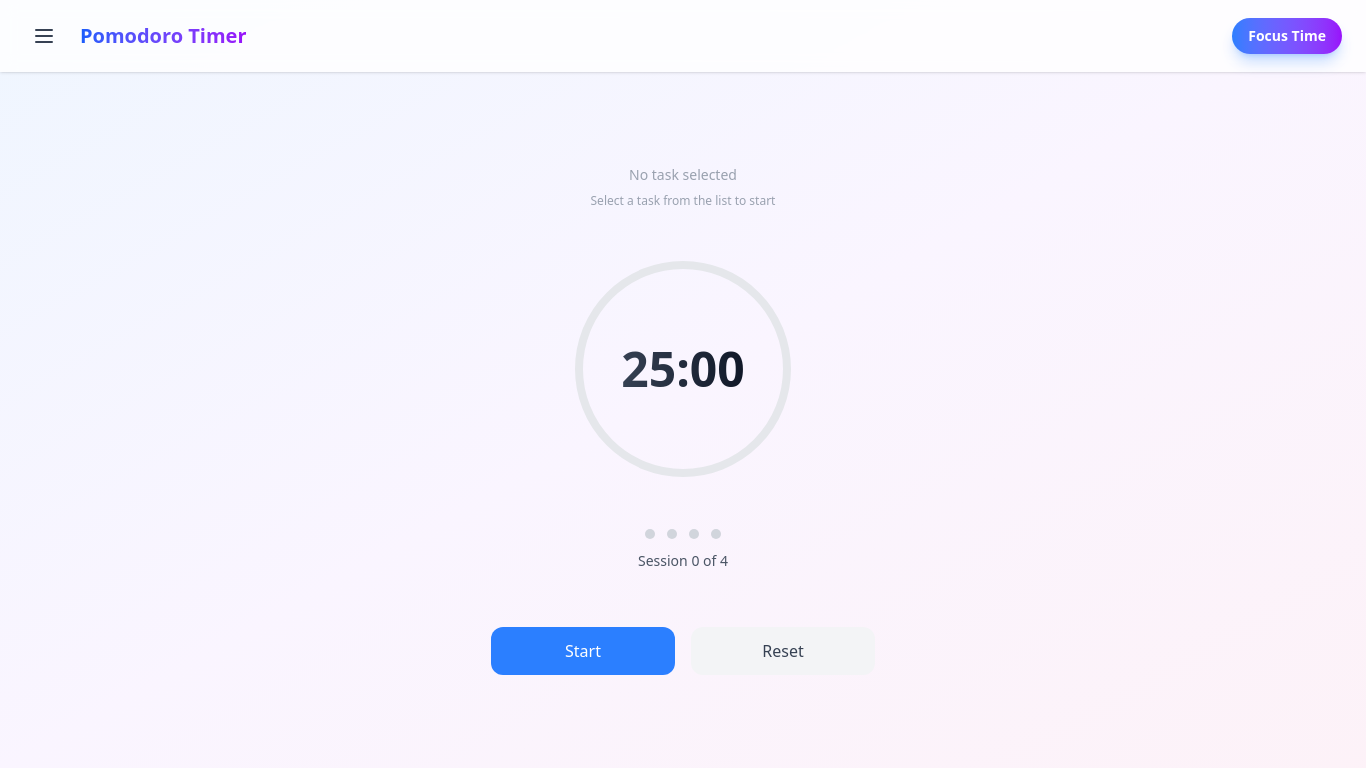
Scenario: Timer Page Integration › Timer Functionality › should start timer when start button is clicked
Click the button "Start" at (583, 650), box [491, 626, 675, 674]
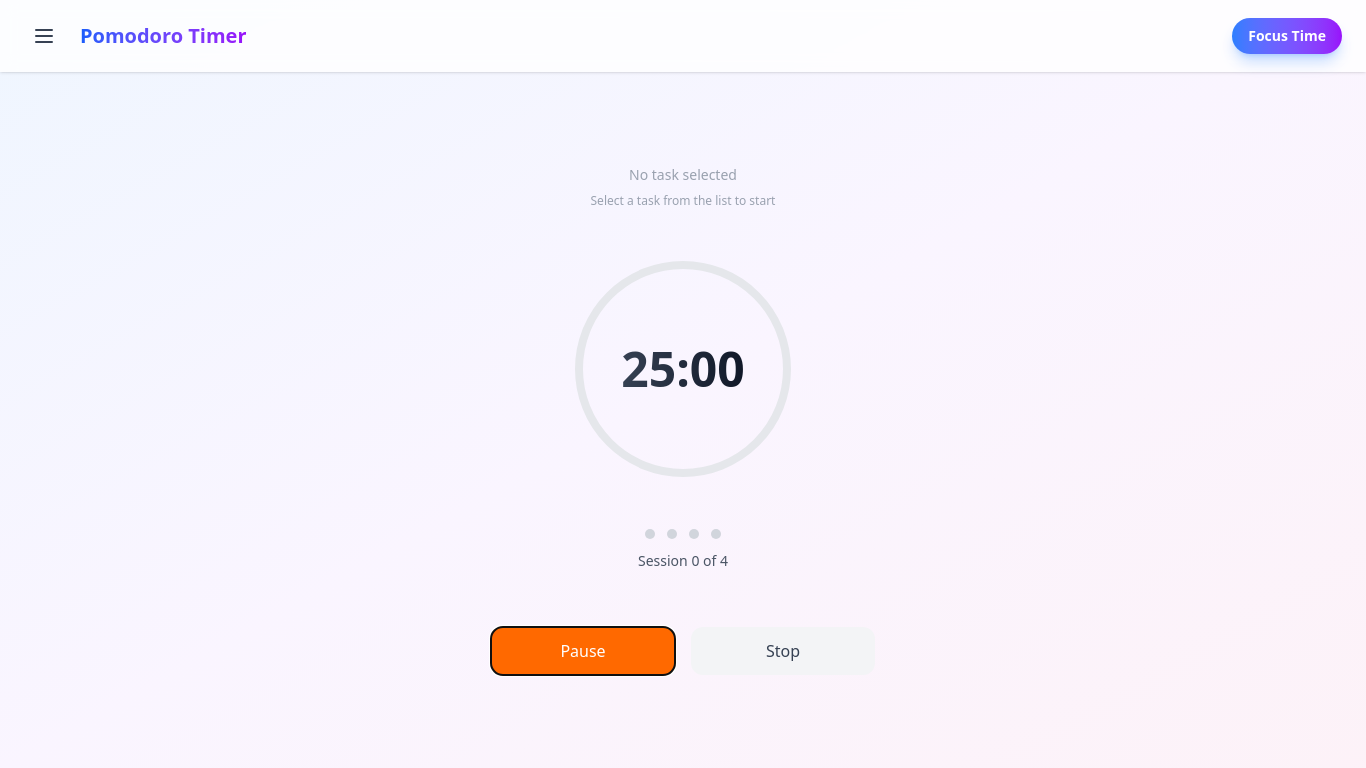
Expected: the button "Pause" is shown, [491, 626, 675, 674]
